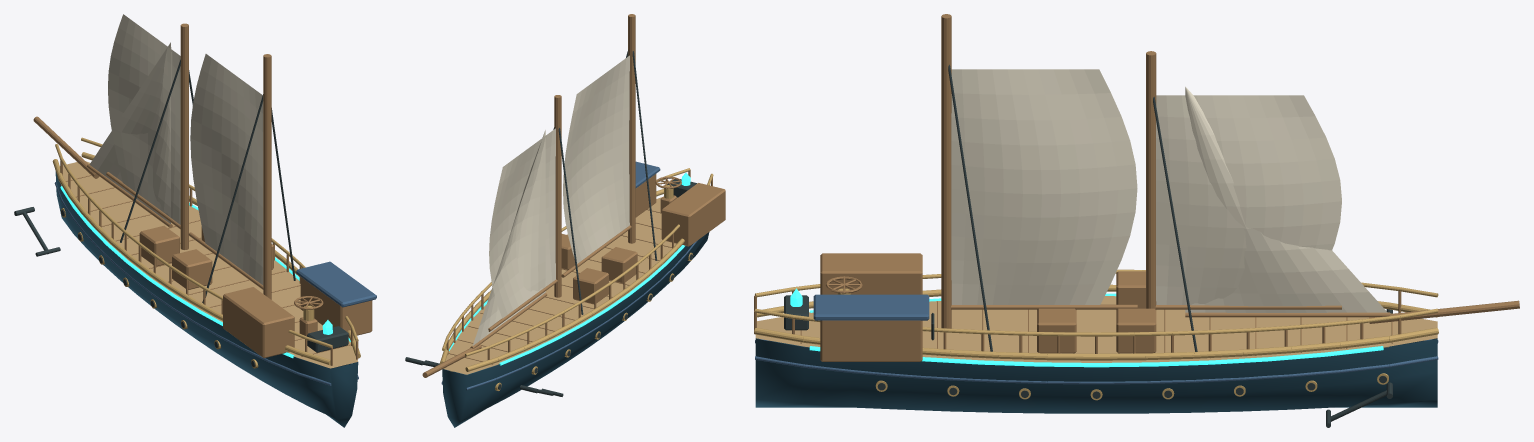
Rendered from premium_royal_schooner.glb.
The picture shows the model from 3 angles, left to right: view 1: azimuth 30°, elevation 25°; view 2: azimuth 150°, elevation 25°; view 3: azimuth 270°, elevation 25°; orthographic projection. The views are drawn at different scales.
Visible parts, largest first — view 1: premium_royal_schooner; view 2: premium_royal_schooner; view 3: premium_royal_schooner.
Part boxes in pixels (x1=…): premium_royal_schooner: x1=14, y1=14, x2=376, y2=427; premium_royal_schooner: x1=405, y1=14, x2=725, y2=427; premium_royal_schooner: x1=754, y1=14, x2=1519, y2=427.
Size of the model in its own units: 3.86 by 7.6 by 13.47.
